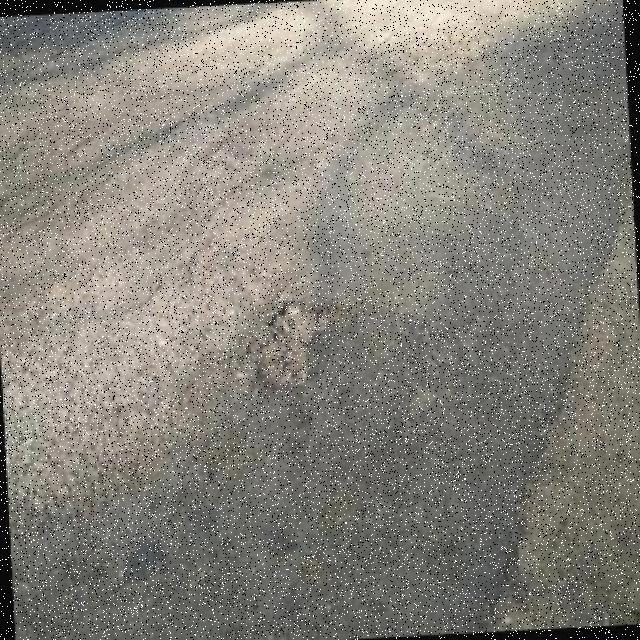Pothole: (246, 300, 326, 392)
